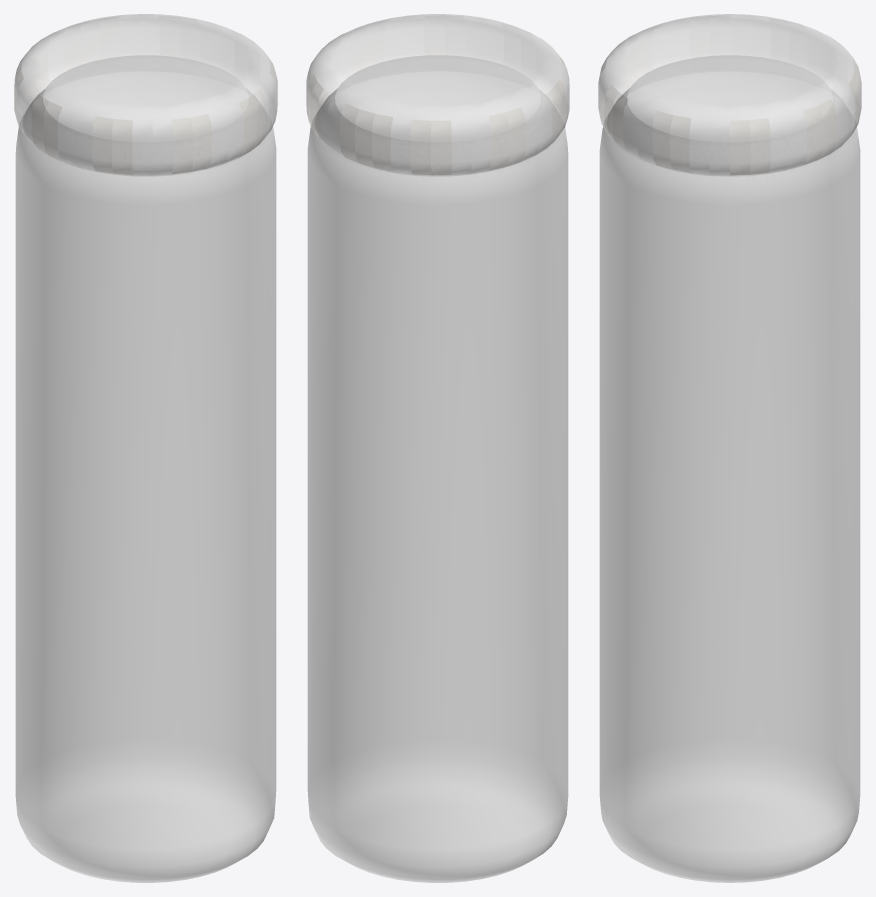
The model's file is kav3_3.glb.
The picture shows the model from 3 angles, left to right: view 1: azimuth 30°, elevation 25°; view 2: azimuth 150°, elevation 25°; view 3: azimuth 270°, elevation 25°; orthographic projection.
Parts seen in each view (by area): view 1: kav3_3; view 2: kav3_3; view 3: kav3_3.
Part boxes in pixels (left/top/right/bottom): kav3_3: left=14, top=14, right=277, bottom=882; kav3_3: left=306, top=14, right=569, bottom=882; kav3_3: left=598, top=14, right=861, bottom=882.
Bounding box in the file's own units: 1.43 × 4.65 × 1.43.
Materials: 1 (1 with a texture image).
